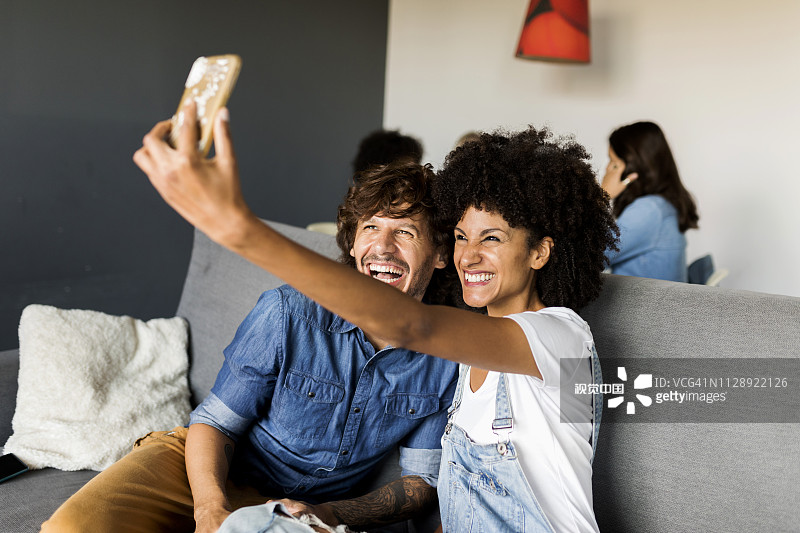taking photos: (119, 41, 286, 260)
